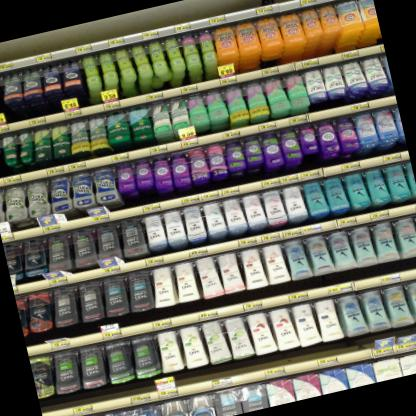empty_space: (0, 72, 12, 127), (0, 137, 7, 180)
